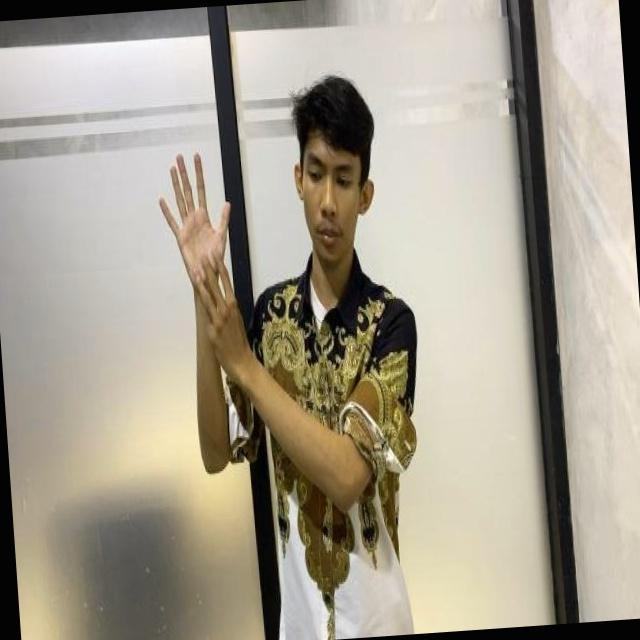M: (153, 142, 250, 316)
